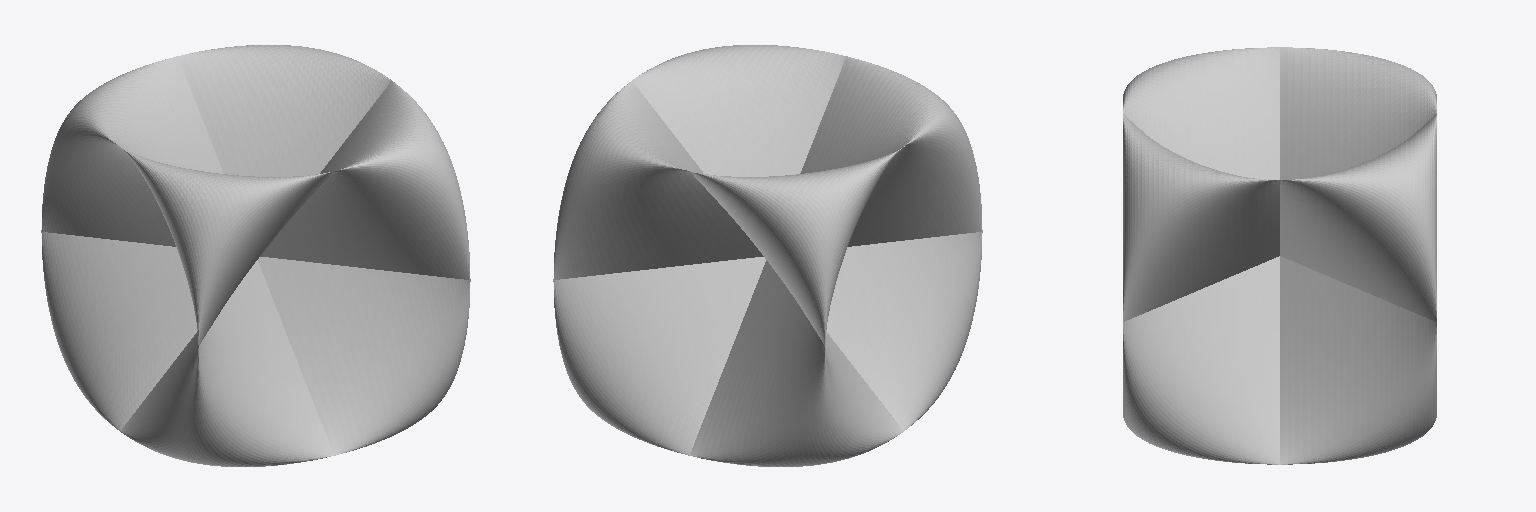
File: sin.obj
3 renders of one model, left to right at view 1: azimuth 30°, elevation 25°; view 2: azimuth 150°, elevation 25°; view 3: azimuth 270°, elevation 25°, orthographic.
Visible parts, largest first — view 1: XYZ_Function.007; view 2: XYZ_Function.007; view 3: XYZ_Function.007.
Part boxes in pixels (left/top/right/bottom): XYZ_Function.007: left=41, top=45, right=470, bottom=466; XYZ_Function.007: left=553, top=45, right=982, bottom=466; XYZ_Function.007: left=1123, top=47, right=1436, bottom=464.
Size of the model in its own units: 2 by 2 by 2.